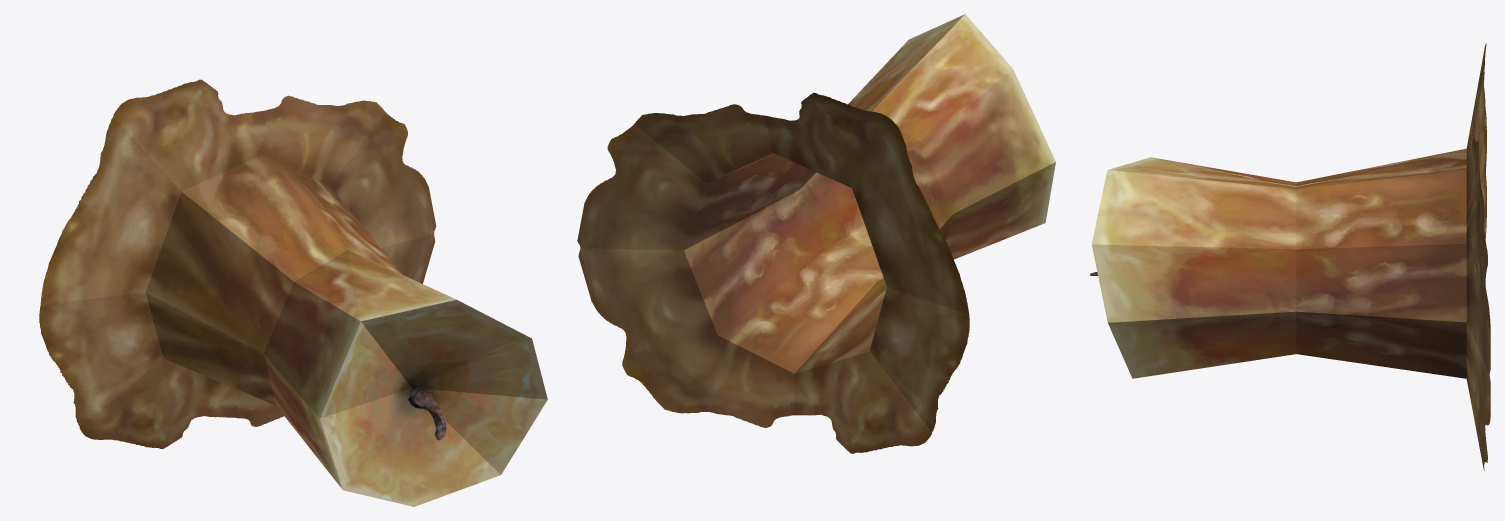
File: juqing_fuben_544_lazhu_04.obj
3 views of the same model, side by side, from view 1: azimuth 30°, elevation 25°; view 2: azimuth 150°, elevation 25°; view 3: azimuth 270°, elevation 25° (orthographic). The views are drawn at different scales.
Parts seen in each view (by area): view 1: juqing_fuben_544_lazhu_06; view 2: juqing_fuben_544_lazhu_06; view 3: juqing_fuben_544_lazhu_06.
Part boxes in pixels (box(x1,y1,x2,y2)): juqing_fuben_544_lazhu_06: box(39, 79, 547, 506); juqing_fuben_544_lazhu_06: box(577, 14, 1055, 453); juqing_fuben_544_lazhu_06: box(1090, 43, 1490, 470).
Size of the model in its own units: 220 by 235 by 200.
Materials: 1 (1 with a texture image).
